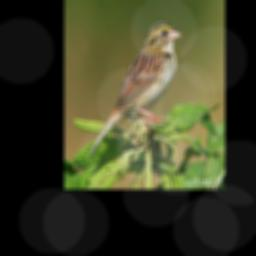Sparrow: (86, 19, 183, 161)
